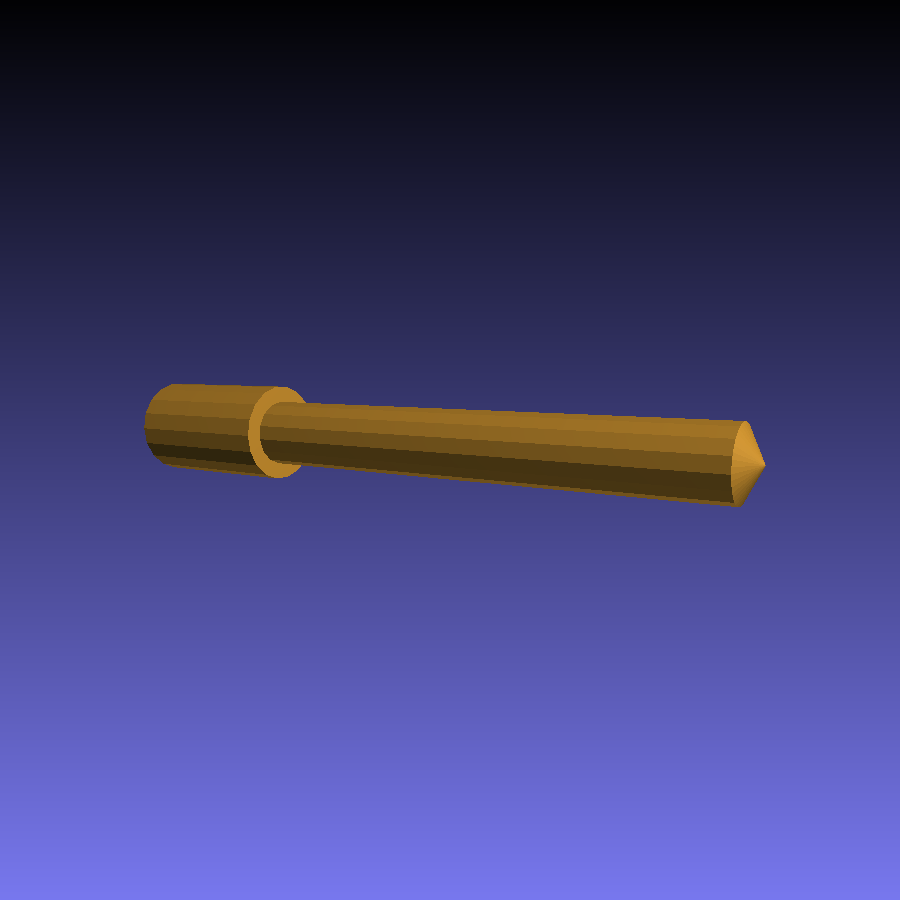cargo_g: (144, 382, 764, 508)
